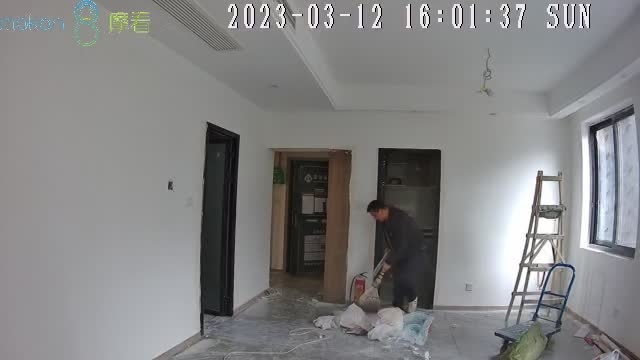people: (367, 200, 419, 315)
window: (591, 111, 637, 252)
